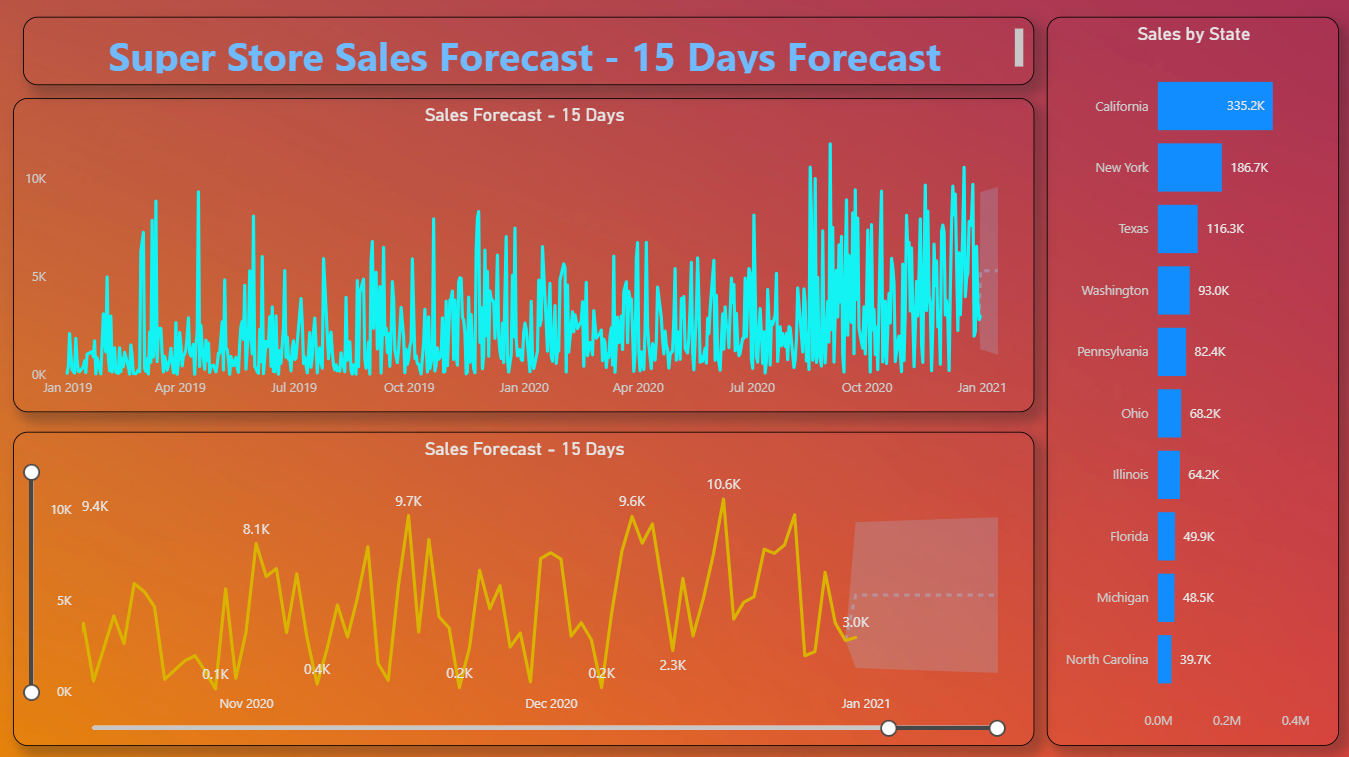

This screenshot's page, from the dashboard's own definition file:
{"tool":"powerbi","page":{"name":"Page 2","canvas":[1280,720],"ordinal":1},"visuals":[{"type":"lineChart","title":"Sales Forecast - 15 Days","fields":{"Y":["Sum(SuperStore_Sales_Dataset.Sales)"],"Category":["SuperStore_Sales_Dataset.Order Date"]},"box":[13.7,94.7,967.4,297.8],"z":0},{"type":"lineChart","title":"Sales Forecast - 15 Days","fields":{"Y":["Sum(SuperStore_Sales_Dataset.Sales)"],"Category":["SuperStore_Sales_Dataset.Order Date"]},"box":[13.7,410.3,967.4,297.8],"z":1000},{"type":"textbox","box":[23.3,17.8,957.8,64.5],"z":2000},{"type":"clusteredBarChart","title":"Sales by State","fields":{"Category":["SuperStore_Sales_Dataset.State"],"Y":["Sum(SuperStore_Sales_Dataset.Sales)"]},"box":[993.5,17.8,277.2,690.2],"z":3000}]}

Visuals, with their boxes in screenshot pixels (x1, y1, x2, y2), scaled from the page's 1280x720 canvas onto the 1349x757 screenshot:
"Sales Forecast - 15 Days" lineChart: 14, 100, 1034, 413
"Sales Forecast - 15 Days" lineChart: 14, 431, 1034, 744
textbox: 25, 19, 1034, 87
"Sales by State" clusteredBarChart: 1047, 19, 1339, 744
